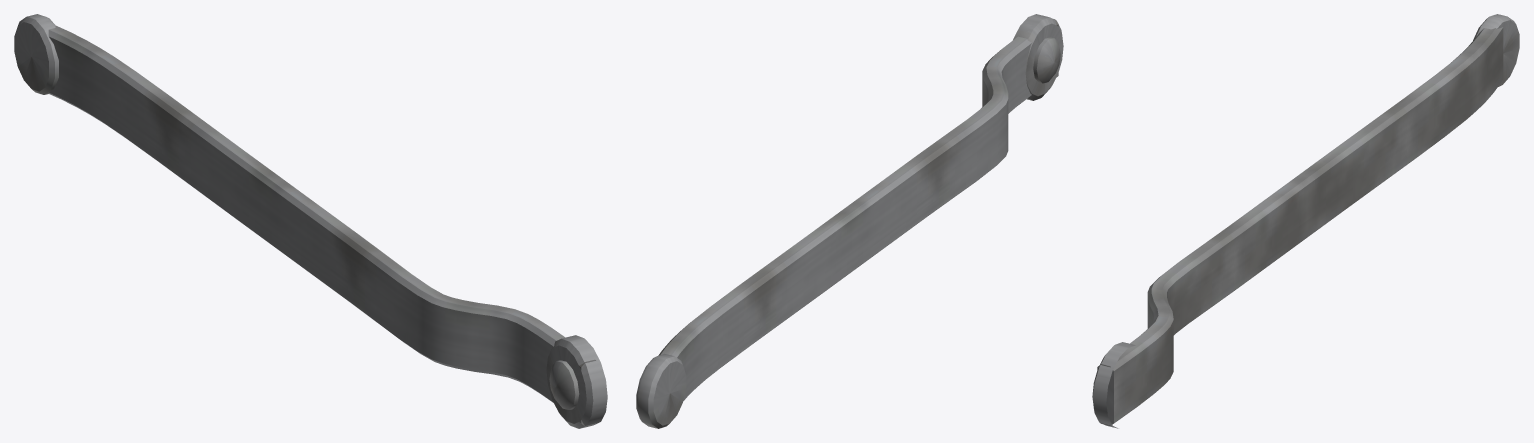
Rendered from pistol_belt_hook.glb.
The picture shows the model from 3 angles, left to right: view 1: azimuth 30°, elevation 25°; view 2: azimuth 150°, elevation 25°; view 3: azimuth 330°, elevation 25°; orthographic projection. The views are drawn at different scales.
Parts seen in each view (by area): view 1: BeltHook; view 2: BeltHook; view 3: BeltHook.
Boxes of the visible parts, x1,y1,x2,y2 form: BeltHook: [14, 14, 607, 428]; BeltHook: [636, 14, 1063, 428]; BeltHook: [1092, 14, 1519, 428].
Size of the model in its own units: 0.013 by 0.0124 by 0.1375.
1 material, 1 textured.
